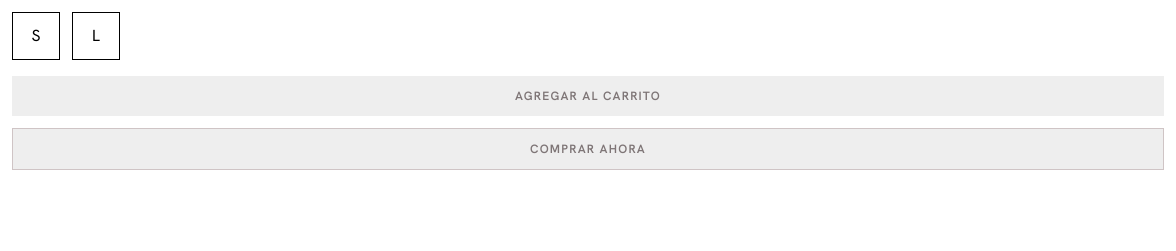
Test: SizeSelector › add-to-cart confirmation feedback › clears the Agregado confirmation when another size is selected
This screenshot has width=1176, height=251.
Click the button "S".
click(36, 36)  # box [12, 12, 60, 60]
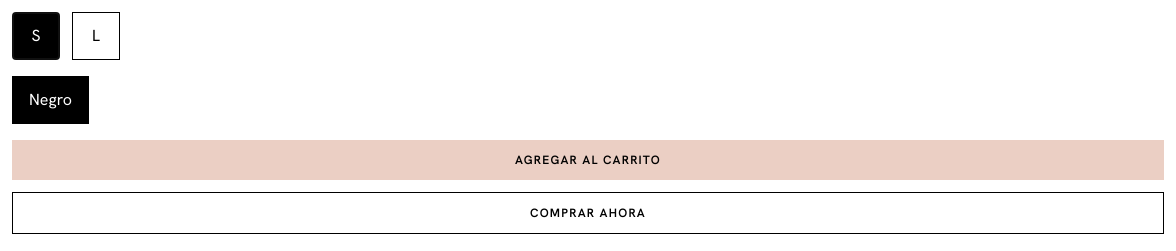
Click the button "Agregar al carrito".
click(588, 160)  # box [12, 140, 1164, 180]
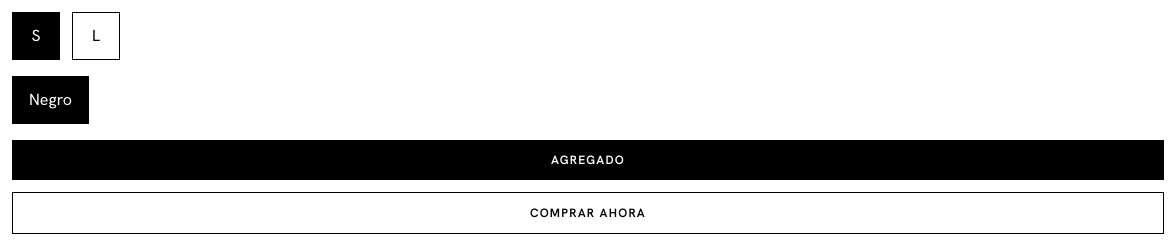
Expected: the button "Agregado" is shown, [12, 140, 1164, 180]
Click the button "L".
click(96, 36)  # box [72, 12, 120, 60]
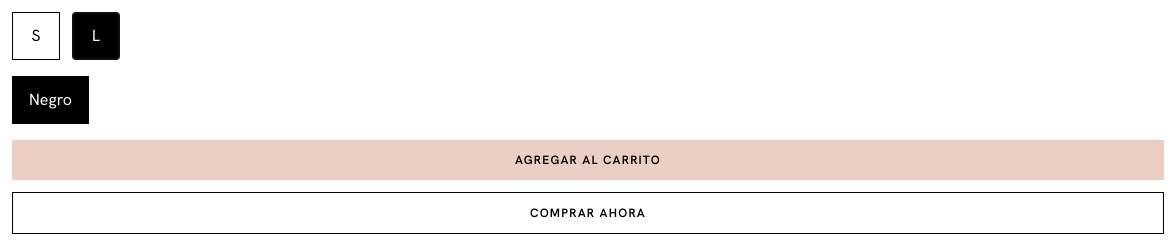
Expected: the button "Agregar al carrito" is enabled, [12, 140, 1164, 180]
